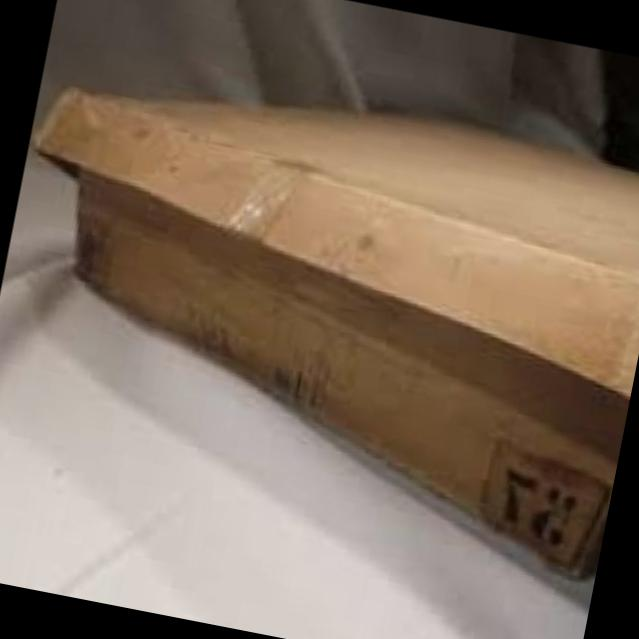cardboard paper: (38, 89, 639, 574)
